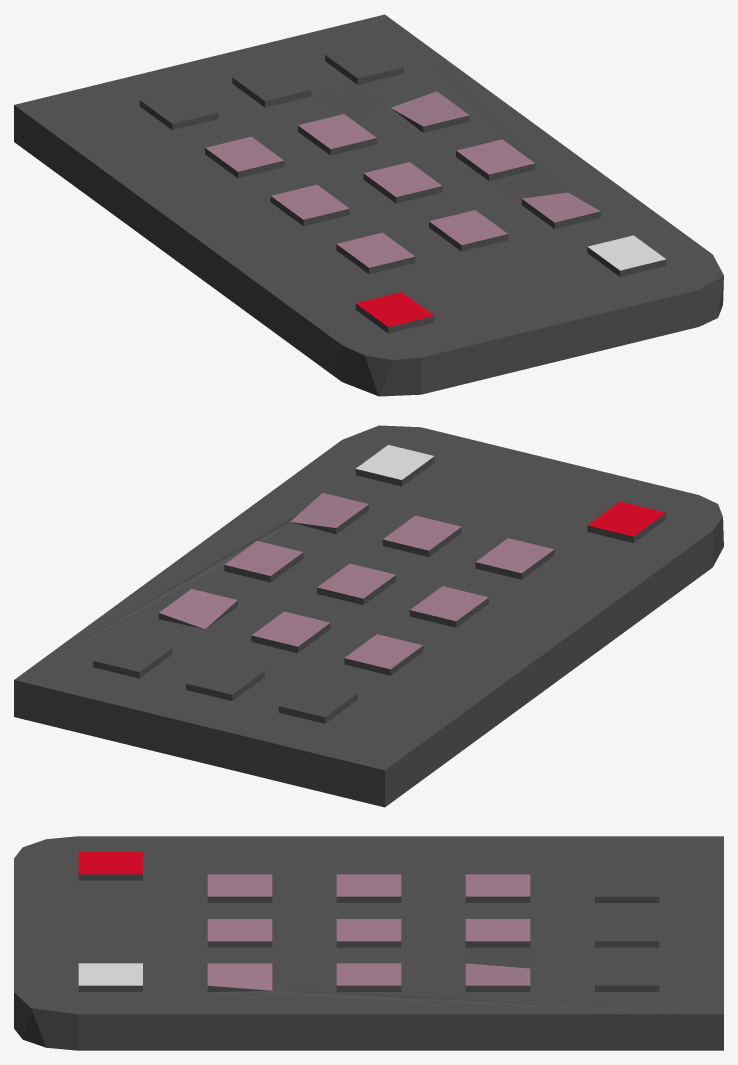
File: Kumanda.fbx
The picture shows the model from 3 angles, top to bottom: view 1: azimuth 30°, elevation 25°; view 2: azimuth 150°, elevation 25°; view 3: azimuth 270°, elevation 25°; orthographic projection.
Parts seen in each view (by area): view 1: Cube.005; view 2: Cube.005; view 3: Cube.005.
Part boxes in pixels (x1,y1,x2,y2): Cube.005: [14, 14, 723, 396]; Cube.005: [14, 425, 723, 807]; Cube.005: [14, 836, 723, 1050].
Bounding box in the file's own units: 59.84 × 6.71 × 101.
